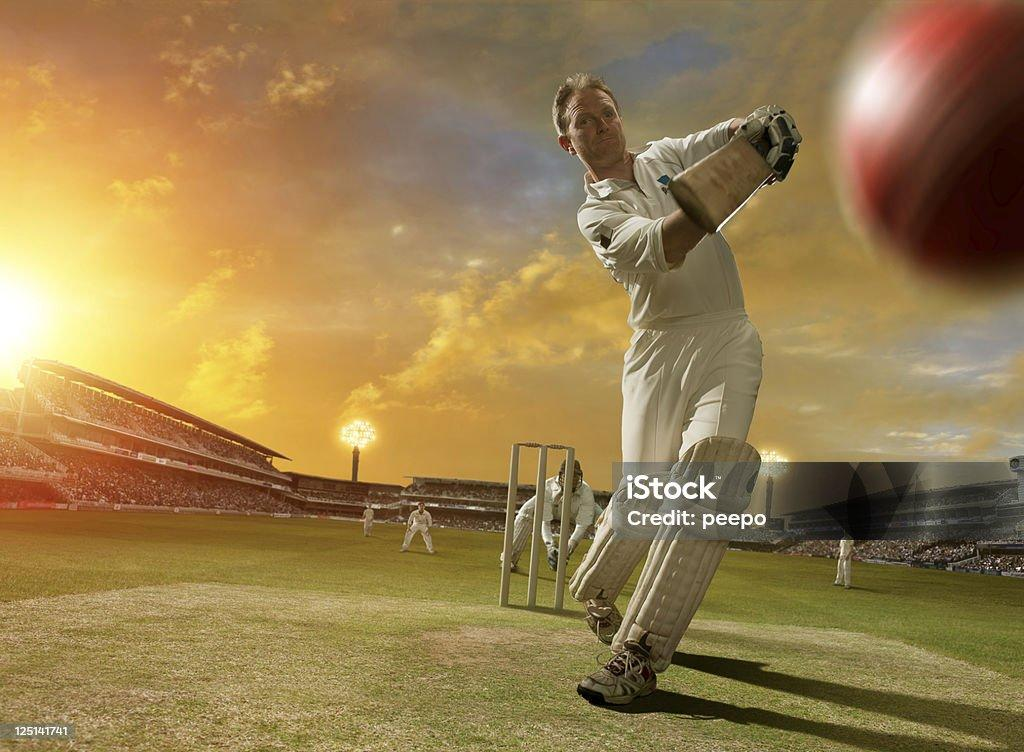batsman: (549, 71, 753, 714)
